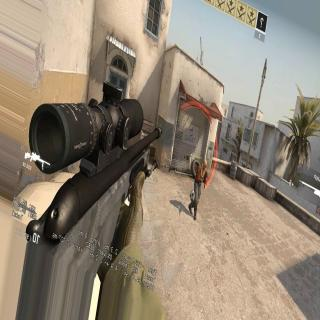T-Body: (188, 158, 208, 222)
T-Head: (203, 160, 207, 170)
